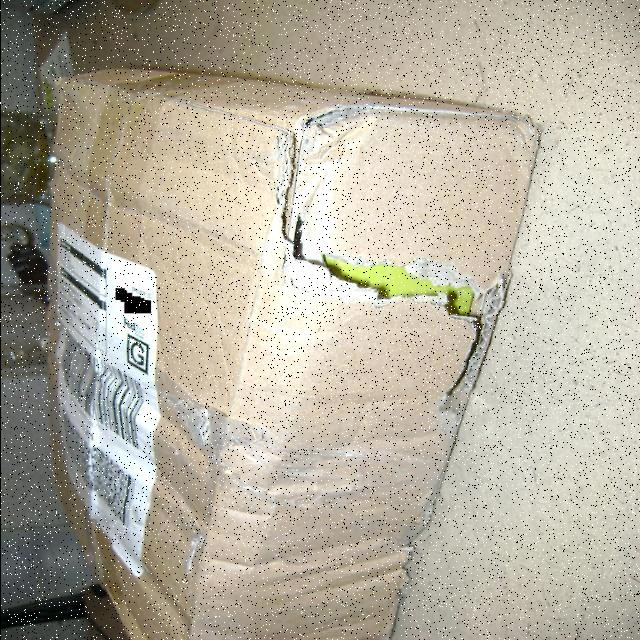defect: (46, 58, 537, 635)
